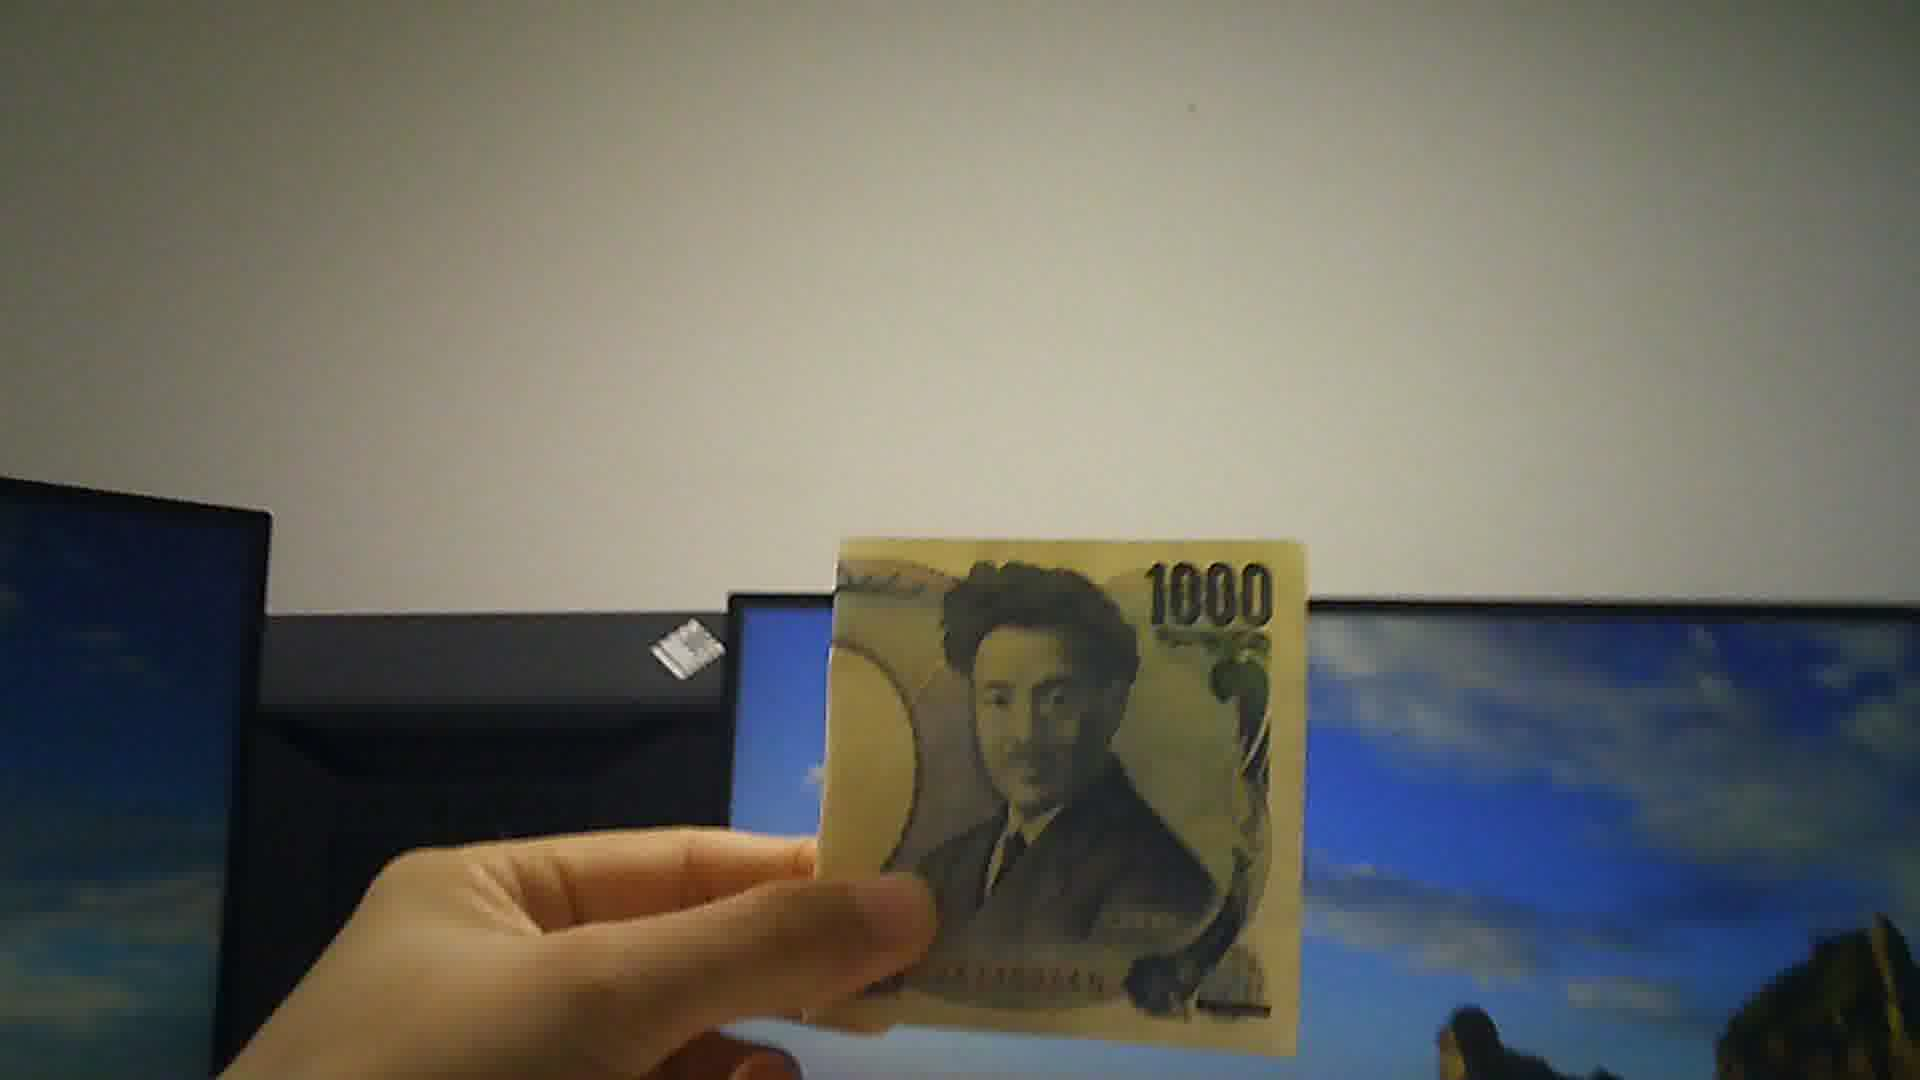1,000 Yen: (814, 516, 1319, 1056)
